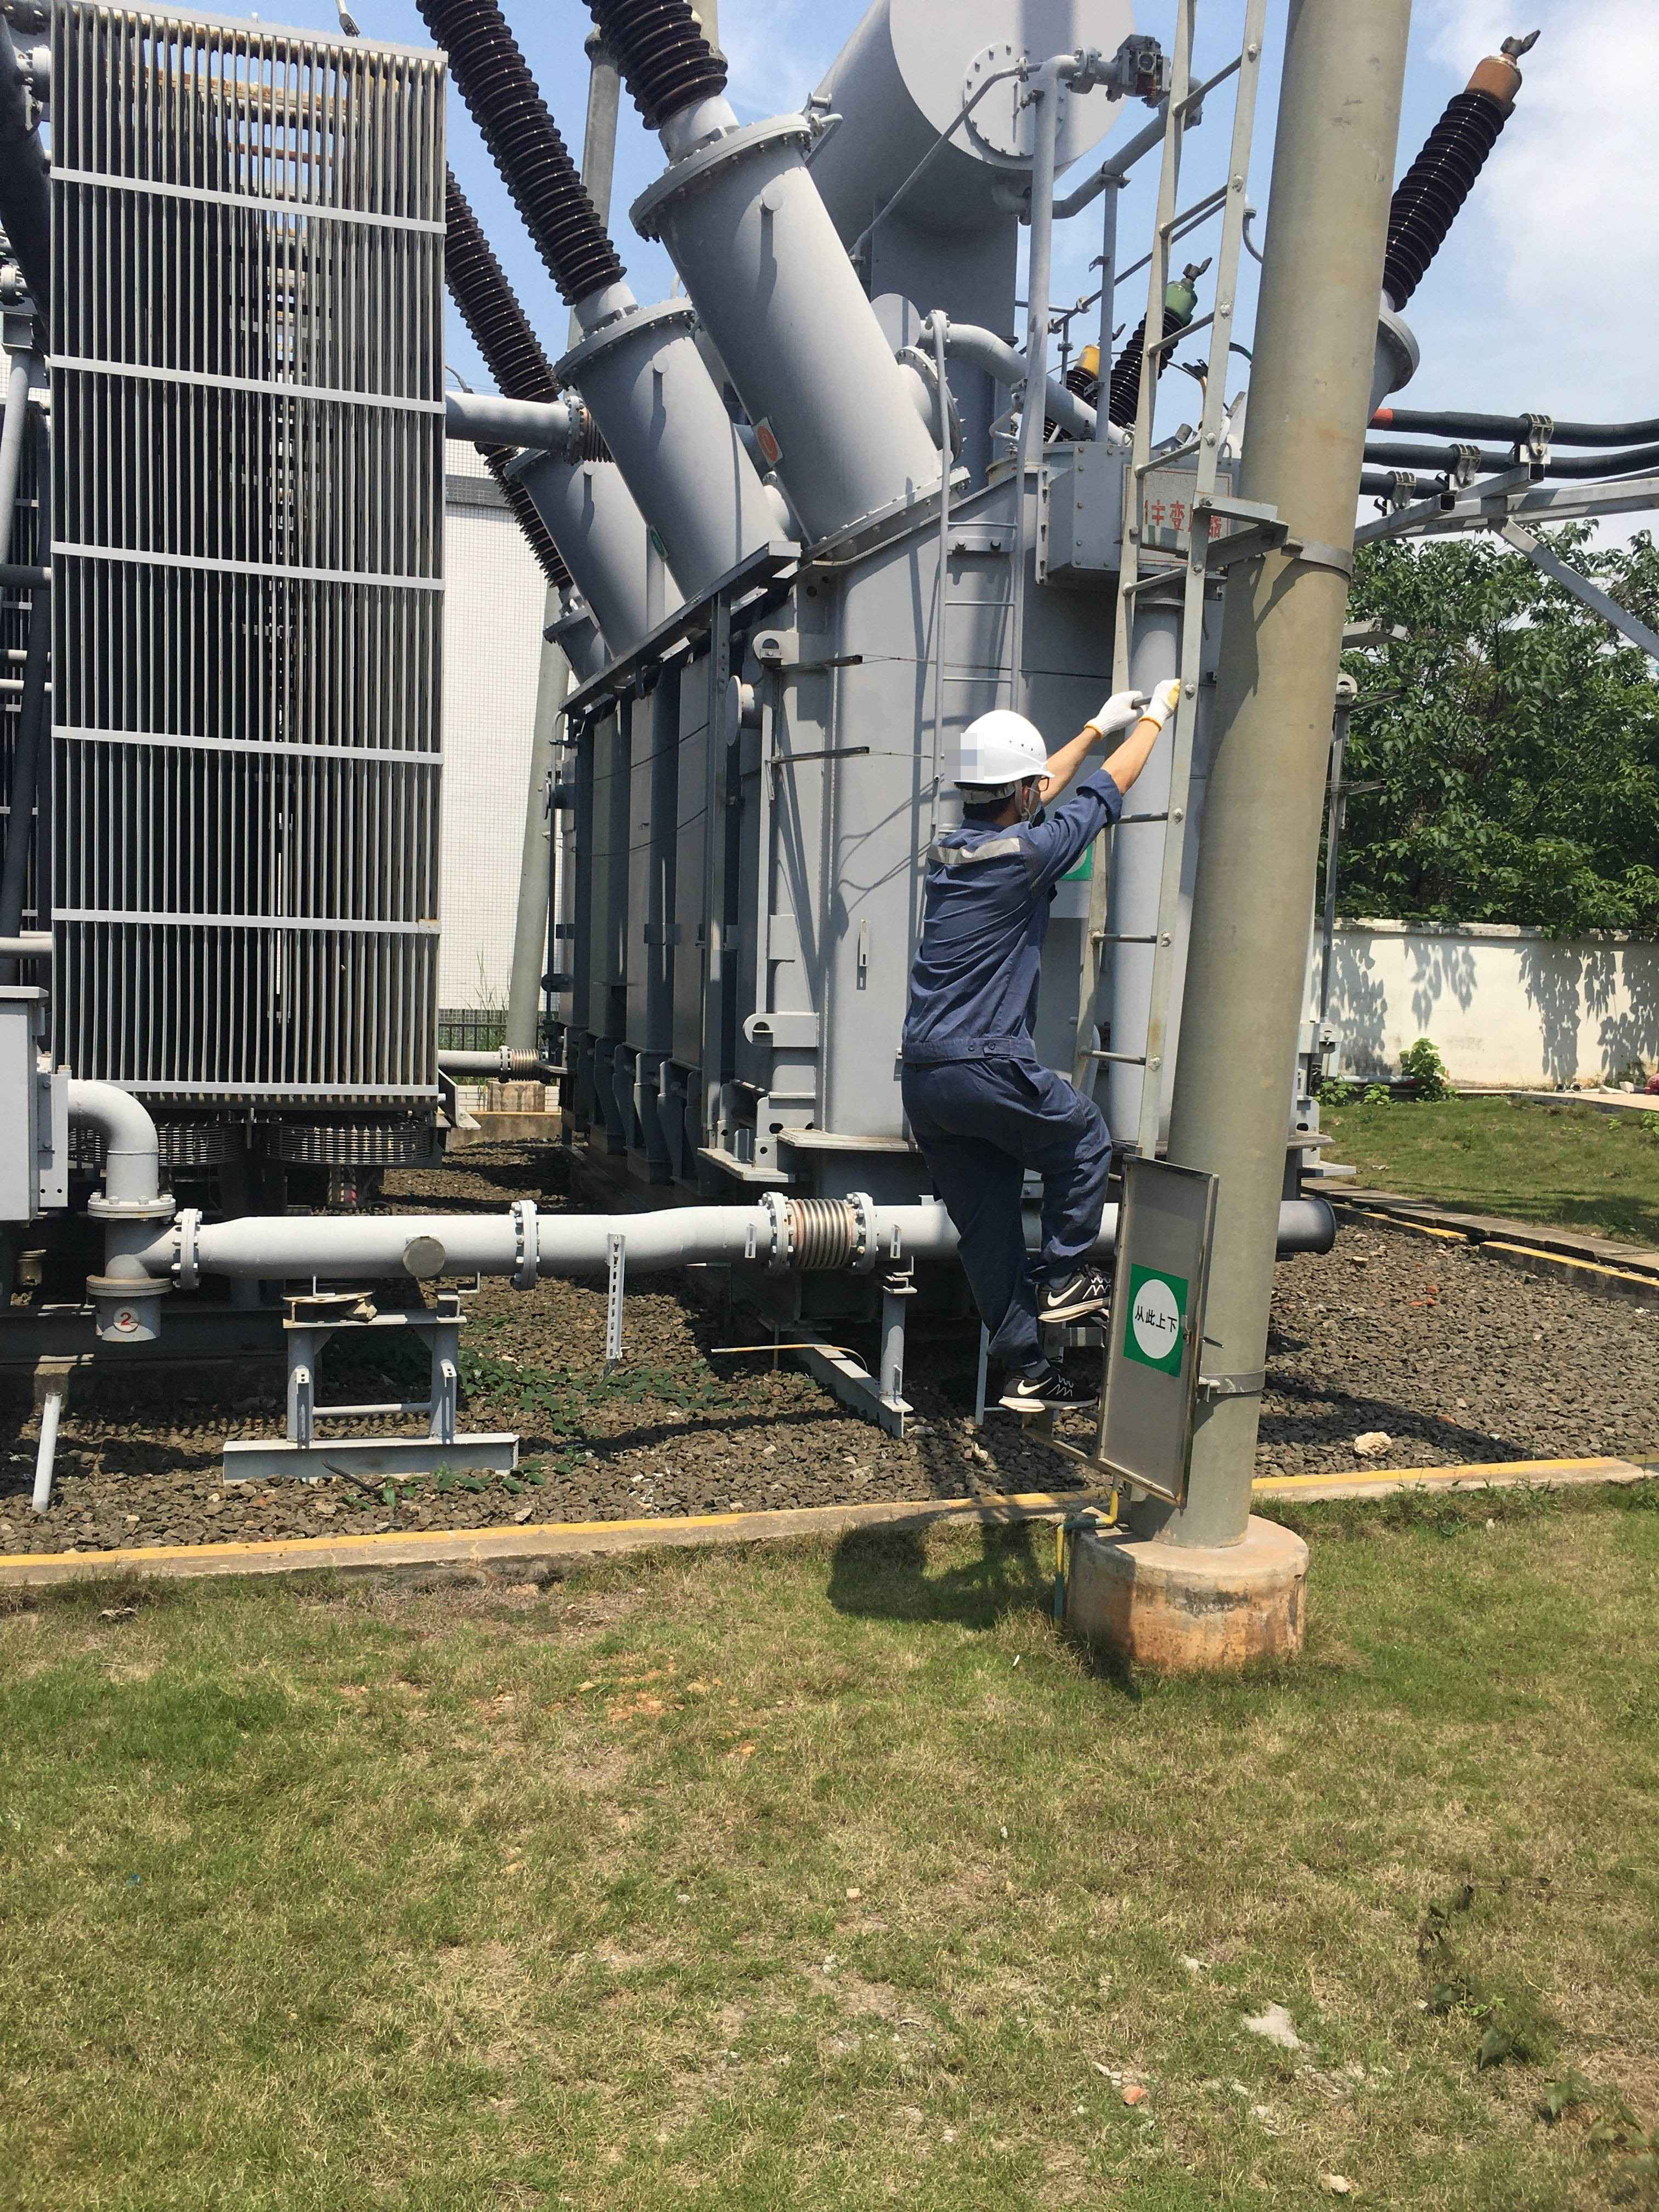downsuit: (897, 1073, 1115, 1364)
upsuit: (899, 787, 1121, 1057)
wrongtop: (1037, 716, 1166, 801)
